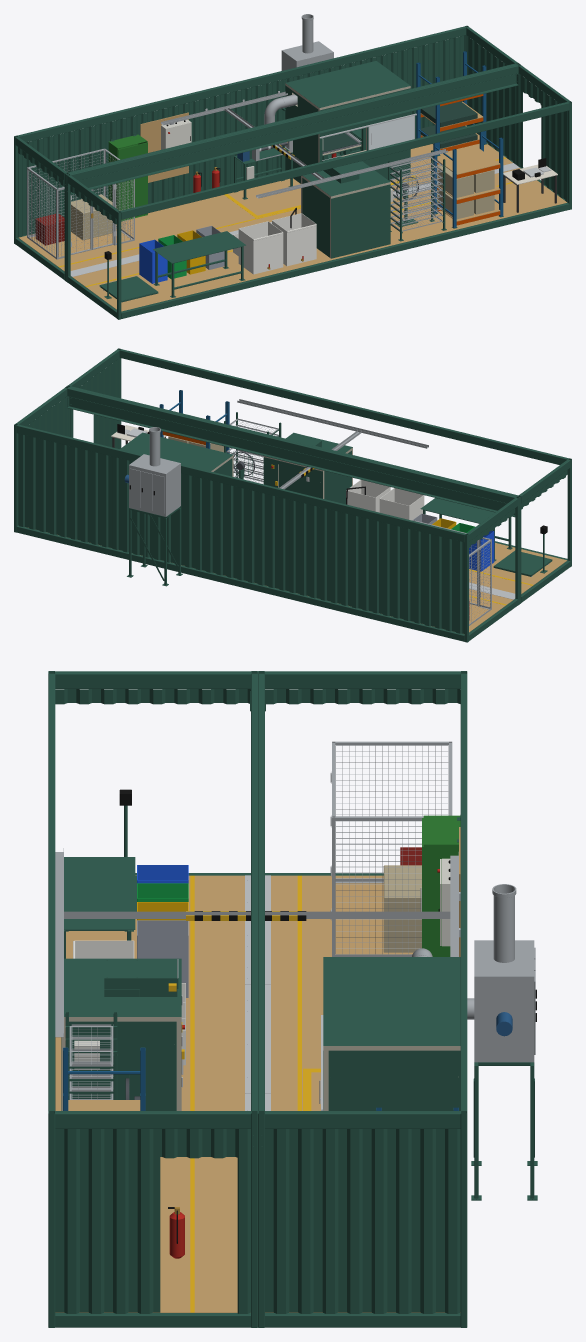
The picture shows the model from 3 angles, top to bottom: view 1: azimuth 30°, elevation 25°; view 2: azimuth 150°, elevation 25°; view 3: azimuth 270°, elevation 25°; orthographic projection. The views are drawn at different scales.
Parts seen in each view (by area): view 1: Back wall (corrugated), Container floor B (28 mm plywood), Building shell, Seam beam UB 305 x 165 x 40 (structural engineer's design), Top side rail, front, Top side rail, back, Top side rail, seam A, Bottom side rail, front, Enclosure wall, front, steel skin, Booth roof panel, steel skin, Far end wall A (corrugated), Far end wall B (corrugated) (+46 smaller); view 2: Back wall (corrugated), Seam beam UB 305 x 165 x 40 (structural engineer's design), Top side rail, front, Top side rail, seam B, Top side rail, back, Bottom side rail, back, Booth roof panel, steel skin, Far end wall A (corrugated), Building shell, Fan and filter box (G4, F7 bag, impregnated carbon; 1.5 kW c, Washing tanks and sediment trap, Top side rail, seam A (+25 smaller); view 3: Far end wall B (corrugated), Building shell, Far end wall A (corrugated), Container floor B (28 mm plywood), Booth roof panel, steel skin, Booth end panel, product side, steel skin, Fan and filter box (G4, F7 bag, impregnated carbon; 1.5 kW c, Enclosure wall, drying end, steel skin, Sorting table top (3 mm sheet), Enclosure roof, steel skin, Top end rail, intake end A, Top end rail, intake end B (+31 smaller).
Part boxes in pixels (x1,y1,x2,y2): Back wall (corrugated): (18,35,466,237); Container floor B (28 mm plywood): (19,143,512,271); Building shell: (71,168,566,311); Seam beam UB 305 x 165 x 40 (structural engineer's design): (70,73,518,194); Top side rail, front: (120,102,569,219); Top side rail, back: (17,26,466,142); Top side rail, seam A: (70,65,518,180); Bottom side rail, front: (121,202,569,318); Enclosure wall, front, steel skin: (331,184,390,258); Booth roof panel, steel skin: (285,61,410,107); Far end wall A (corrugated): (518,74,567,202); Far end wall B (corrugated): (466,35,515,163); Back wall (corrugated): (18,433,464,633); Seam beam UB 305 x 165 x 40 (structural engineer's design): (67,396,515,517); Top side rail, front: (119,349,568,464); Top side rail, seam B: (67,387,515,503); Top side rail, back: (16,424,465,542); Bottom side rail, back: (16,525,464,641); Booth roof panel, steel skin: (120,432,233,471); Far end wall A (corrugated): (70,358,119,448); Building shell: (469,542,566,593); Fan and filter box (G4, F7 bag, impregnated carbon; 1.5 kW c: (129,454,180,516); Washing tanks and sediment trap: (379,488,424,520); Top side rail, seam A: (69,386,517,496); Far end wall B (corrugated): (265,1129,460,1313); Building shell: (55,875,244,1312); Far end wall A (corrugated): (55,1129,250,1313); Container floor B (28 mm plywood): (265,875,460,1312); Booth roof panel, steel skin: (323,957,460,1045); Booth end panel, product side, steel skin: (328,1050,460,1110); Fan and filter box (G4, F7 bag, impregnated carbon; 1.5 kW c: (474,940,534,1062); Enclosure wall, drying end, steel skin: (69,1021,176,1110); Sorting table top (3 mm sheet): (64,857,135,929); Enclosure roof, steel skin: (64,958,181,1016); Top end rail, intake end A: (55,671,250,688); Top end rail, intake end B: (265,671,460,688).
Size of the model in its own units: 12.19 by 3.75 by 5.69.
